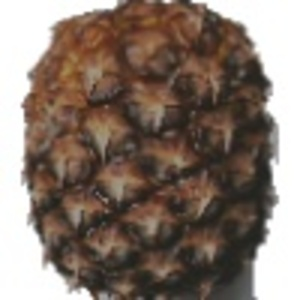abacaxi: (14, 2, 281, 293)
